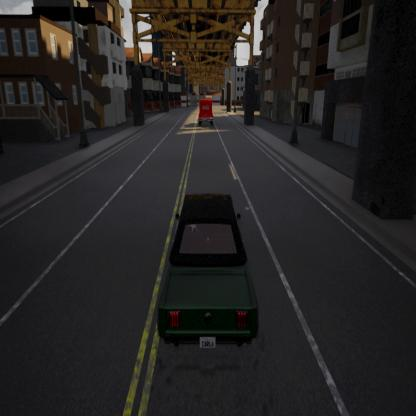Cars: (149, 181, 269, 362), (196, 96, 216, 129)
